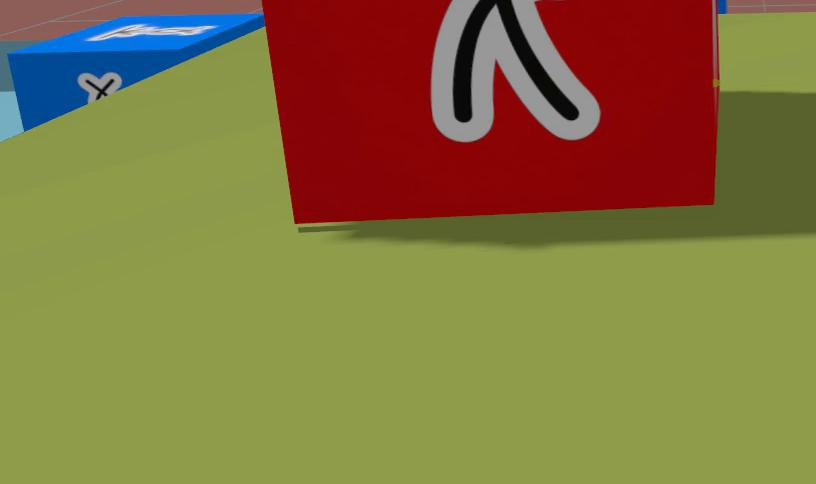KFS_FAKE: (262, 0, 718, 222), (432, 0, 598, 142)
KFS_REAL: (7, 13, 263, 129)
